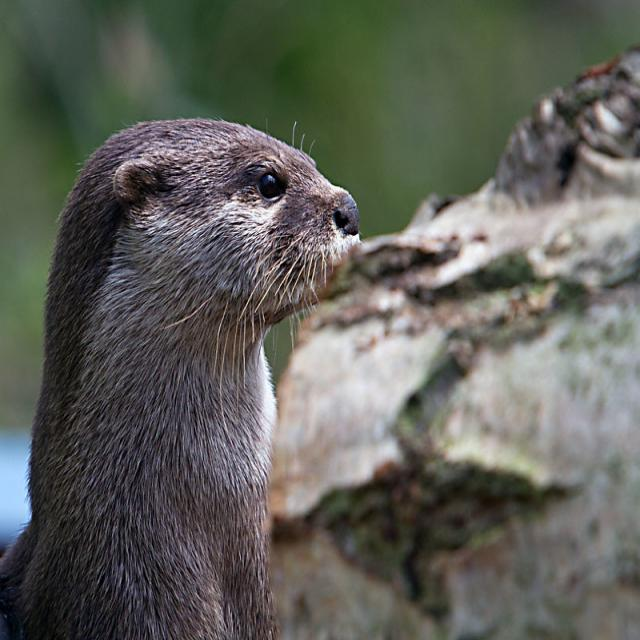otter: (31, 117, 361, 640)
